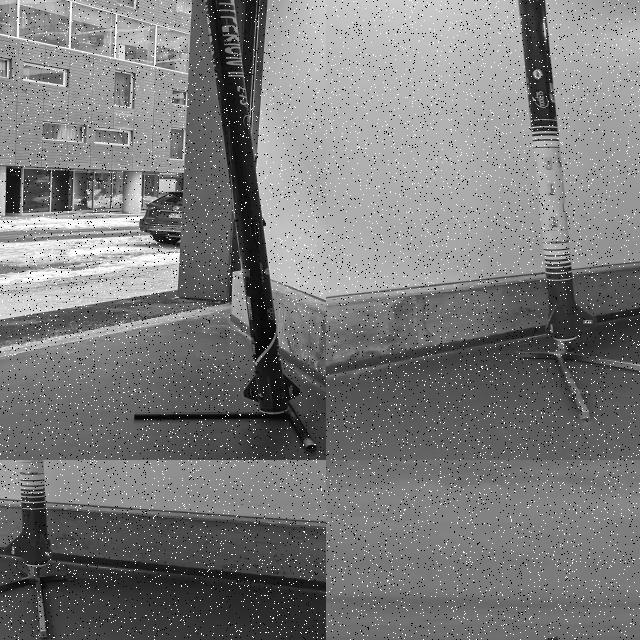Rocket: (204, 0, 301, 415), (517, 0, 597, 341), (4, 460, 54, 567)
